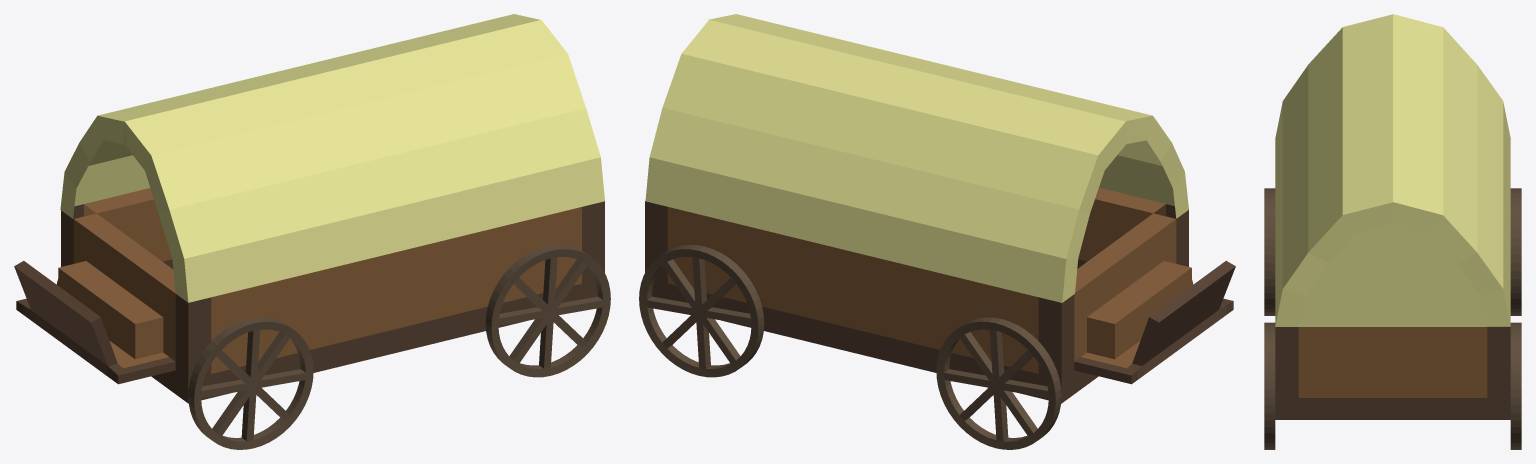
The model's file is Carriage.fbx.
3 renders of one model, left to right at view 1: azimuth 30°, elevation 25°; view 2: azimuth 150°, elevation 25°; view 3: azimuth 270°, elevation 25°, orthographic. The views are drawn at different scales.
Visible parts, largest first — view 1: Cube.002; view 2: Cube.002; view 3: Cube.002.
Part boxes in pixels (x1=…): Cube.002: x1=14, y1=14, x2=610, y2=449; Cube.002: x1=639, y1=14, x2=1235, y2=449; Cube.002: x1=1264, y1=14, x2=1521, y2=449.
Size of the model in its own units: 734 by 416 by 361.
